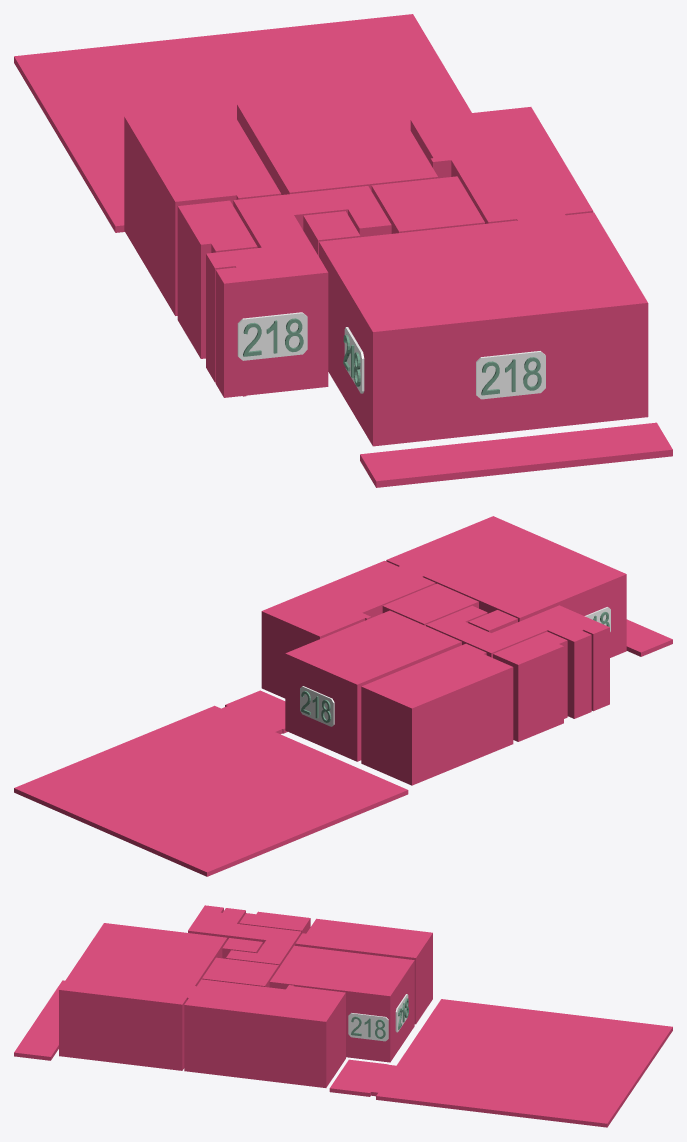
The picture shows the model from 3 angles, top to bottom: view 1: azimuth 30°, elevation 25°; view 2: azimuth 150°, elevation 25°; view 3: azimuth 270°, elevation 25°; orthographic projection. The views are drawn at different scales.
Visible parts, largest first — view 1: g_1, g_9, g_4, g_7, g_6, g_0, g_8, g_5, g_2, g_29, g_25, g_3; view 2: g_9, g_7, g_1, g_6, g_0, g_4, g_5, g_2, g_8, g_21, g_3; view 3: g_9, g_1, g_0, g_6, g_7, g_4, g_8, g_2, g_5, g_13, g_3.
Part boxes in pixels (x1,y1,x2,y2): g_1: [319, 212, 648, 446]; g_9: [14, 14, 471, 232]; g_4: [206, 186, 391, 397]; g_7: [124, 105, 281, 315]; g_6: [237, 88, 437, 194]; g_0: [410, 107, 593, 223]; g_8: [360, 422, 672, 487]; g_5: [177, 200, 257, 358]; g_2: [371, 176, 484, 233]; g_29: [237, 312, 307, 360]; g_25: [476, 351, 545, 399]; g_3: [303, 211, 360, 256]; g_9: [14, 690, 408, 876]; g_7: [361, 643, 513, 785]; g_1: [386, 516, 626, 657]; g_6: [285, 610, 461, 761]; g_0: [261, 560, 435, 698]; g_4: [426, 605, 609, 718]; g_5: [493, 631, 567, 741]; g_2: [382, 583, 478, 625]; g_8: [626, 619, 672, 656]; g_21: [300, 686, 334, 726]; g_3: [468, 610, 517, 632]; g_9: [329, 999, 672, 1127]; g_1: [59, 923, 227, 1070]; g_0: [184, 979, 345, 1087]; g_6: [269, 945, 414, 1062]; g_7: [295, 918, 432, 1024]; g_4: [188, 905, 301, 967]; g_8: [14, 980, 64, 1060]; g_2: [202, 957, 278, 987]; g_5: [239, 911, 310, 933]; g_13: [348, 1013, 388, 1041]; g_3: [222, 938, 262, 958].
Size of the model in its own units: 12.63 by 2.74 by 23.19.
